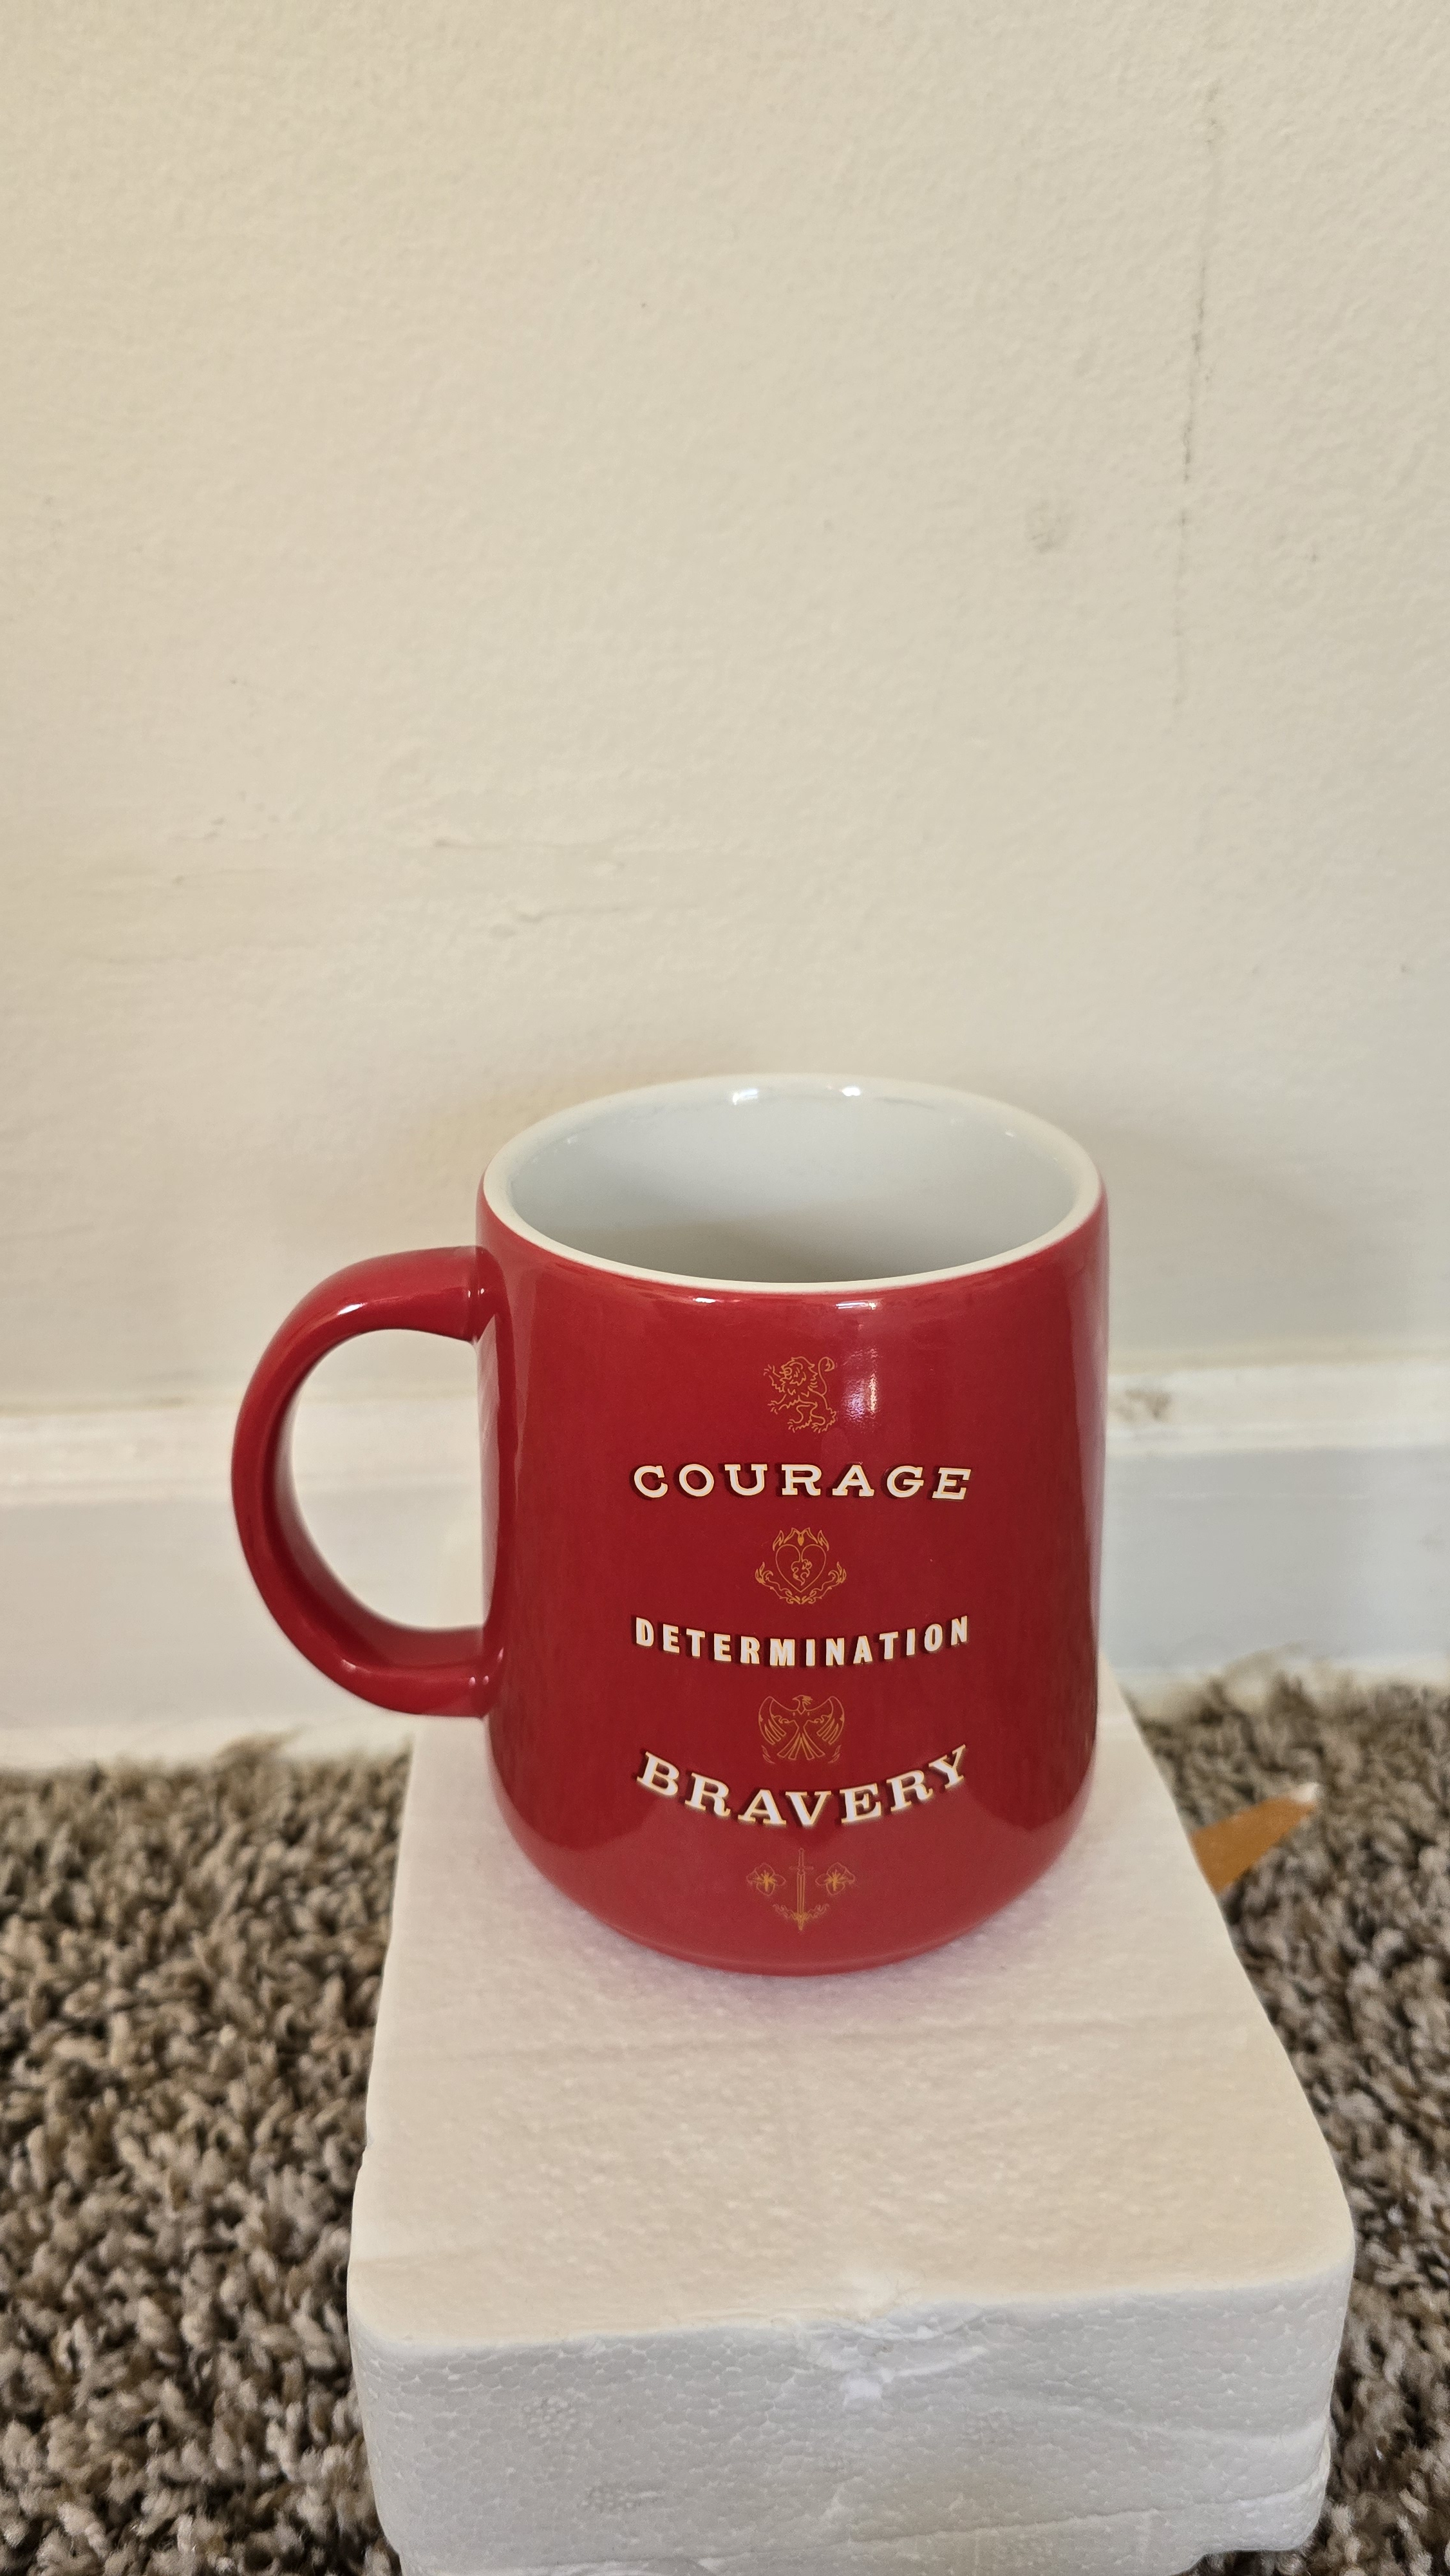mug: (195, 982, 1303, 2010)
